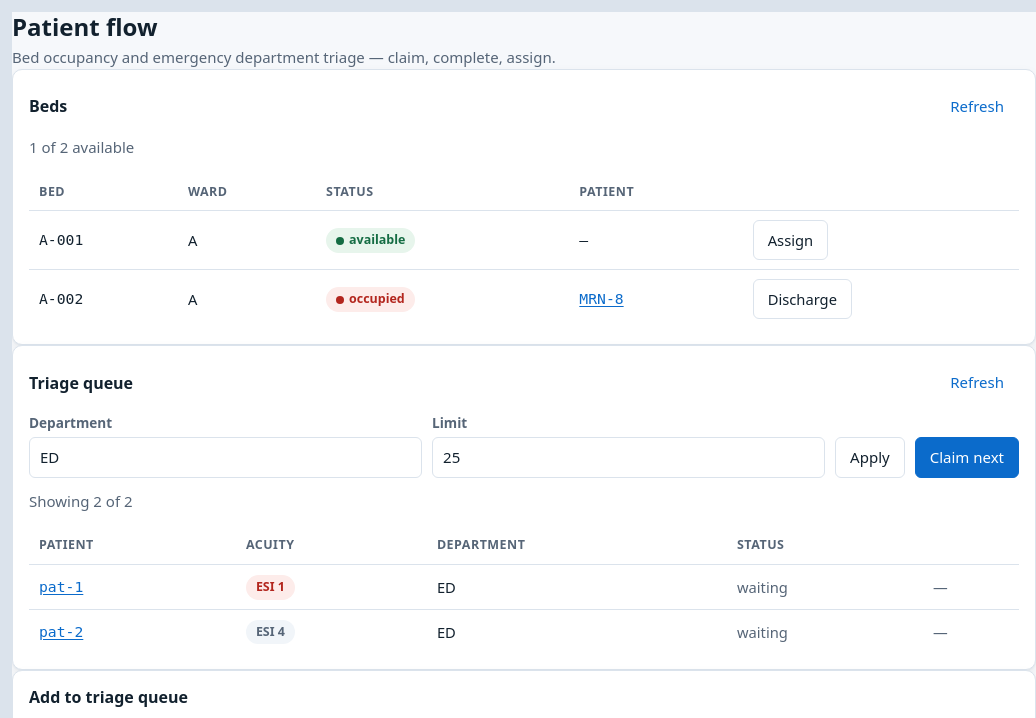
PatientFlowPage › surfaces a 409 when another clinician took the bed first
Click the button "Assign" at (790, 240), box [753, 220, 828, 260]
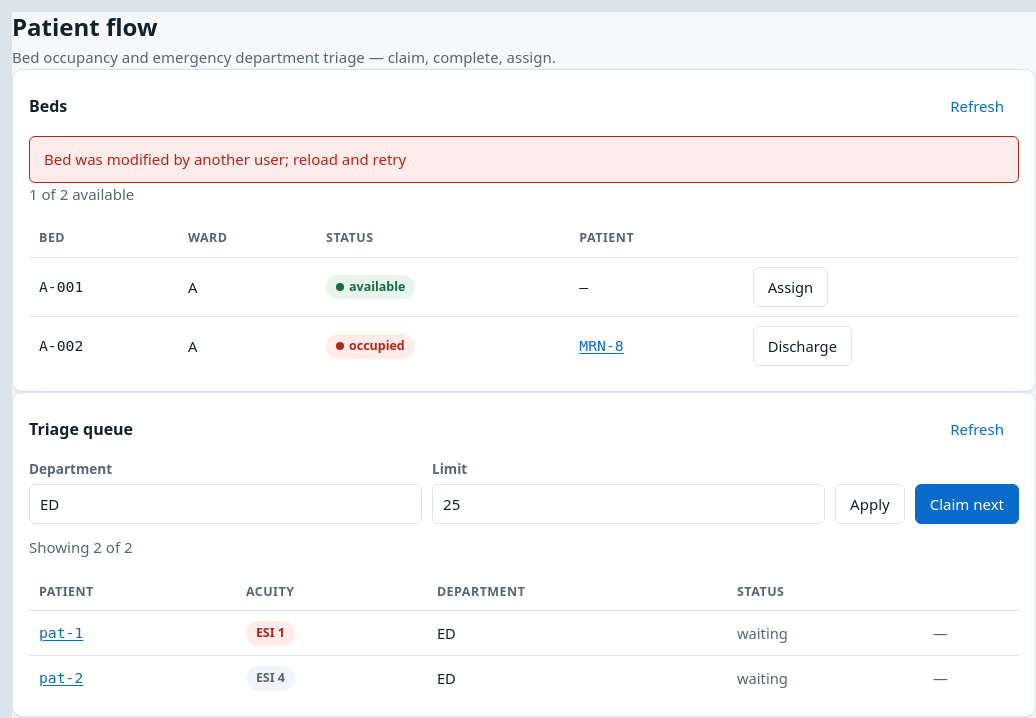
Now the text "Bed was modified by another user; reload and retry" is shown, box [44, 148, 406, 170]
